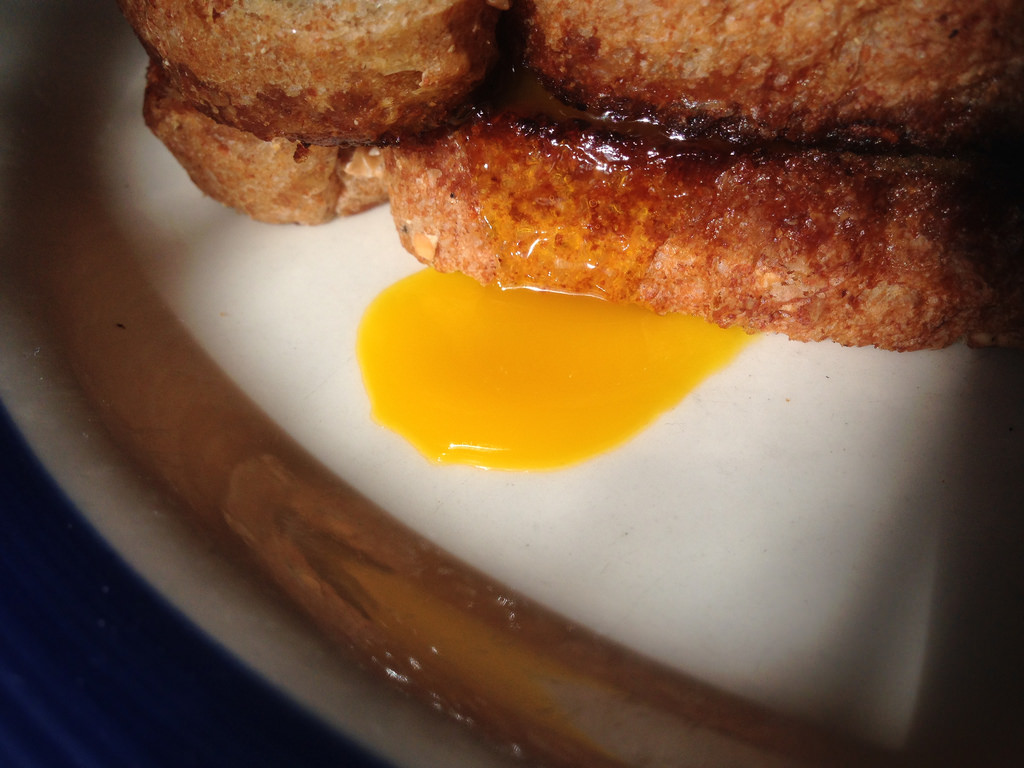fried egg: (249, 258, 860, 636)
slice of bread: (157, 89, 994, 336), (115, 1, 1024, 163)
